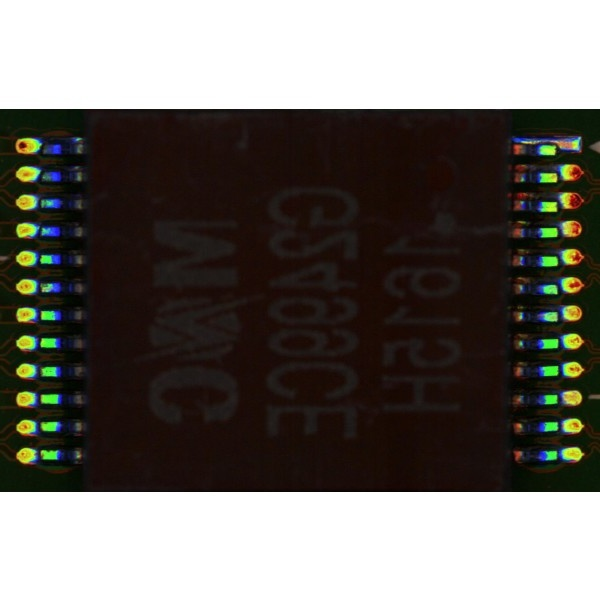Bad_qiaojiao: (513, 139, 558, 144)
